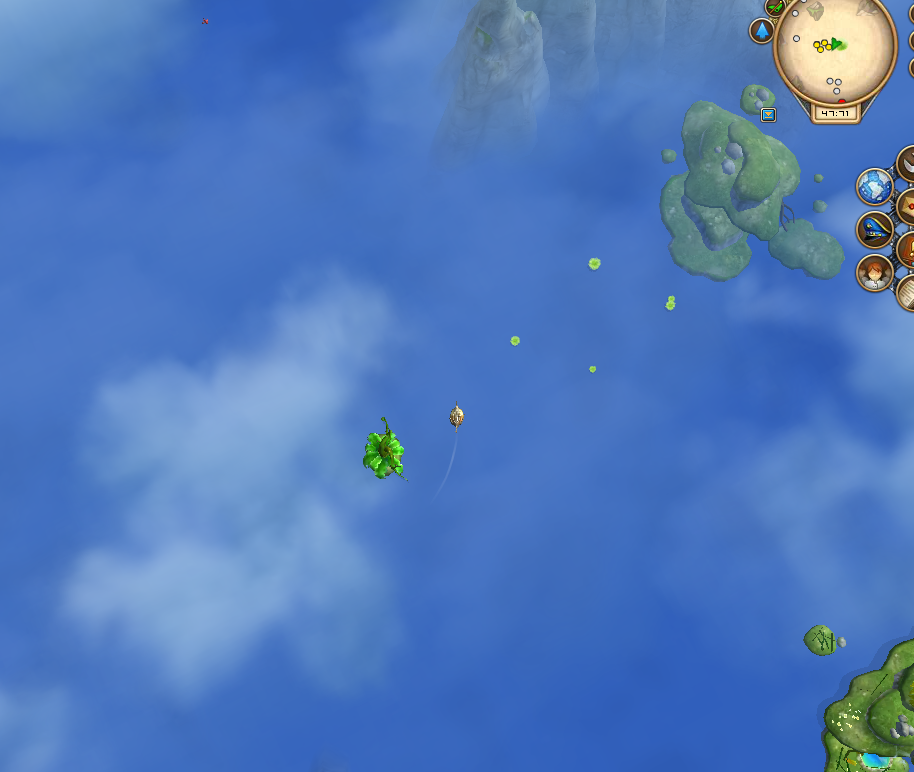dandelion-empty: (359, 411, 411, 488)
fluff: (584, 251, 604, 271), (507, 332, 526, 349), (586, 363, 599, 376), (663, 300, 675, 310), (666, 293, 677, 302)
